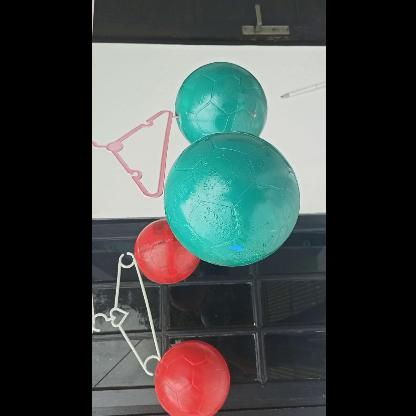red_ball: (150, 343, 230, 415)
